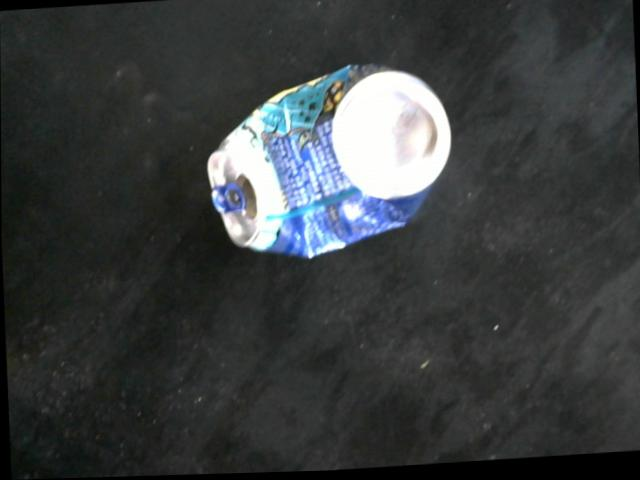can: (201, 67, 449, 266)
